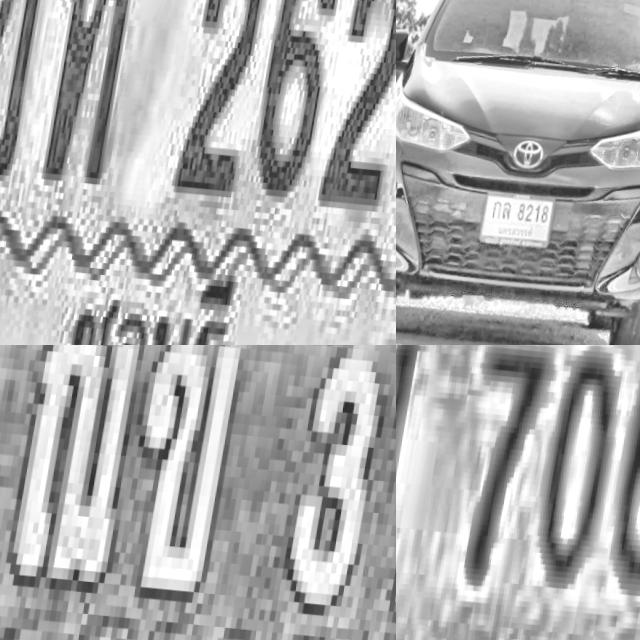license-plate: (0, 0, 396, 345), (0, 345, 396, 640), (396, 345, 640, 640), (481, 181, 566, 257)
